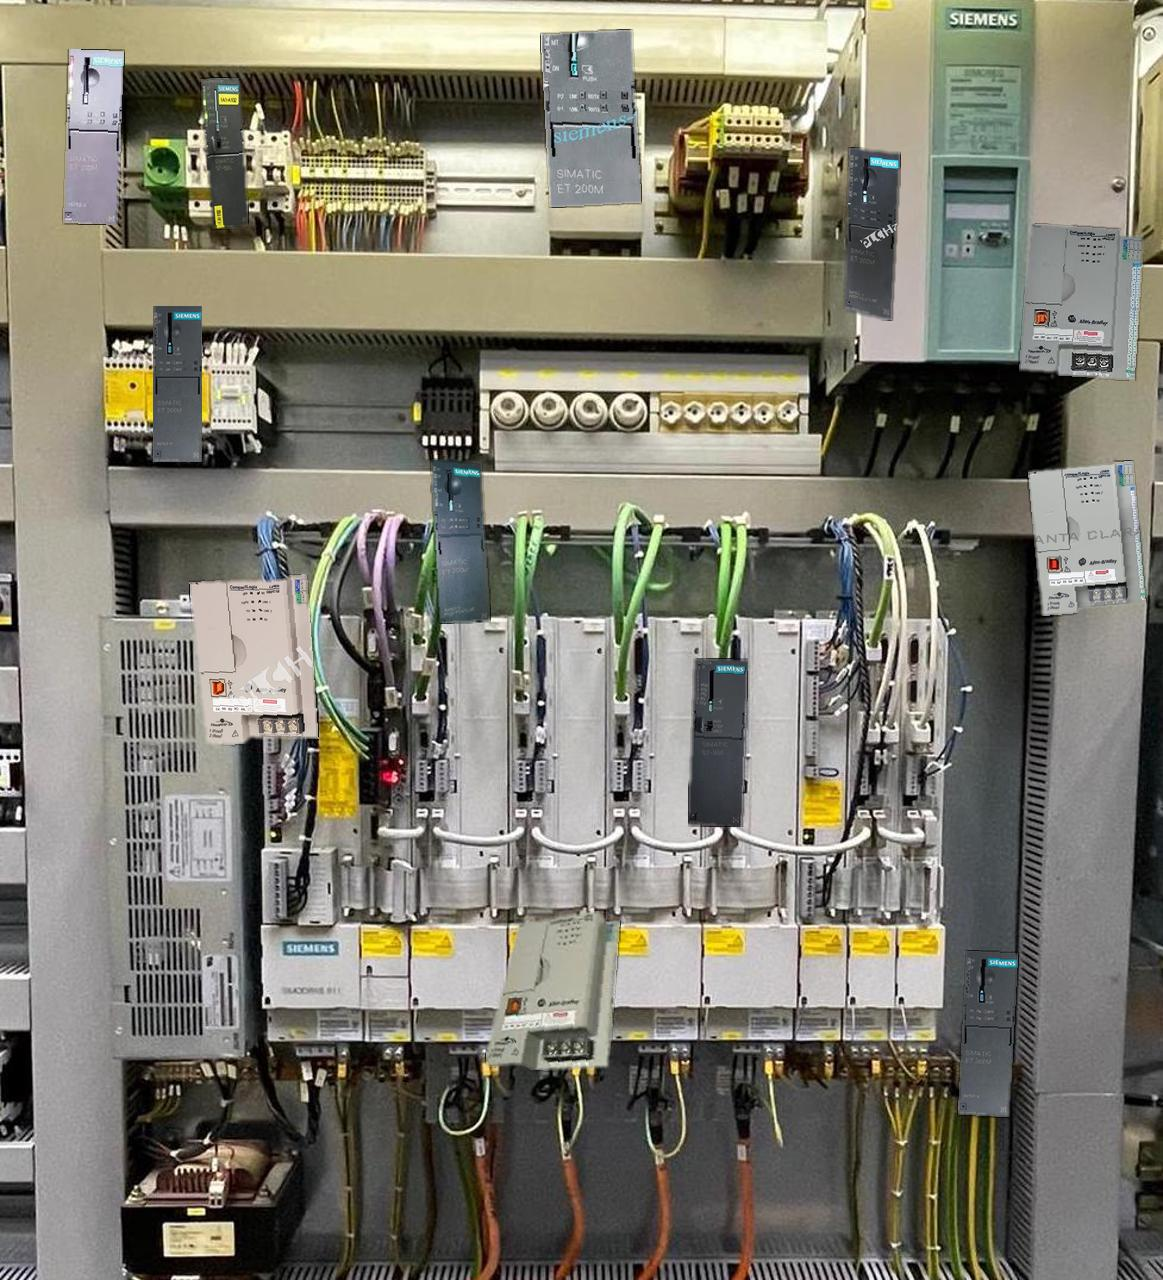AllenBradley: (188, 575, 318, 744), (486, 911, 619, 1069), (1019, 224, 1142, 379), (1028, 460, 1145, 615)
Siemens: (688, 659, 747, 826), (200, 78, 248, 227)
